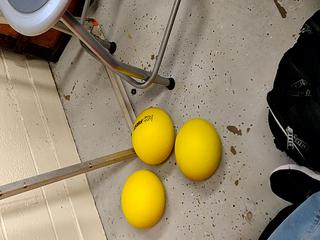power_cell: (128, 103, 178, 167), (169, 114, 219, 178), (118, 162, 168, 226)
